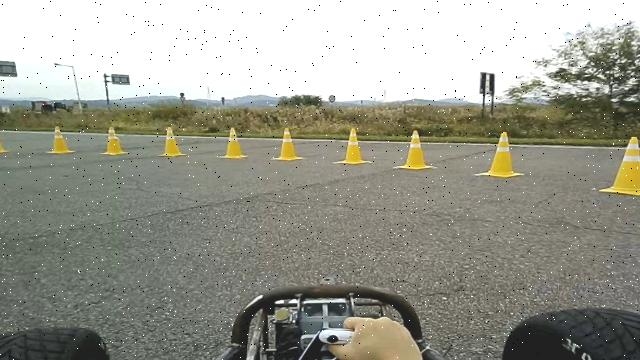yellow cone: (598, 136, 640, 196), (474, 131, 524, 178), (394, 130, 436, 170), (332, 127, 372, 165), (270, 127, 305, 161), (218, 126, 248, 159), (157, 126, 187, 157), (46, 125, 76, 154), (99, 126, 129, 155), (0, 126, 10, 154)
